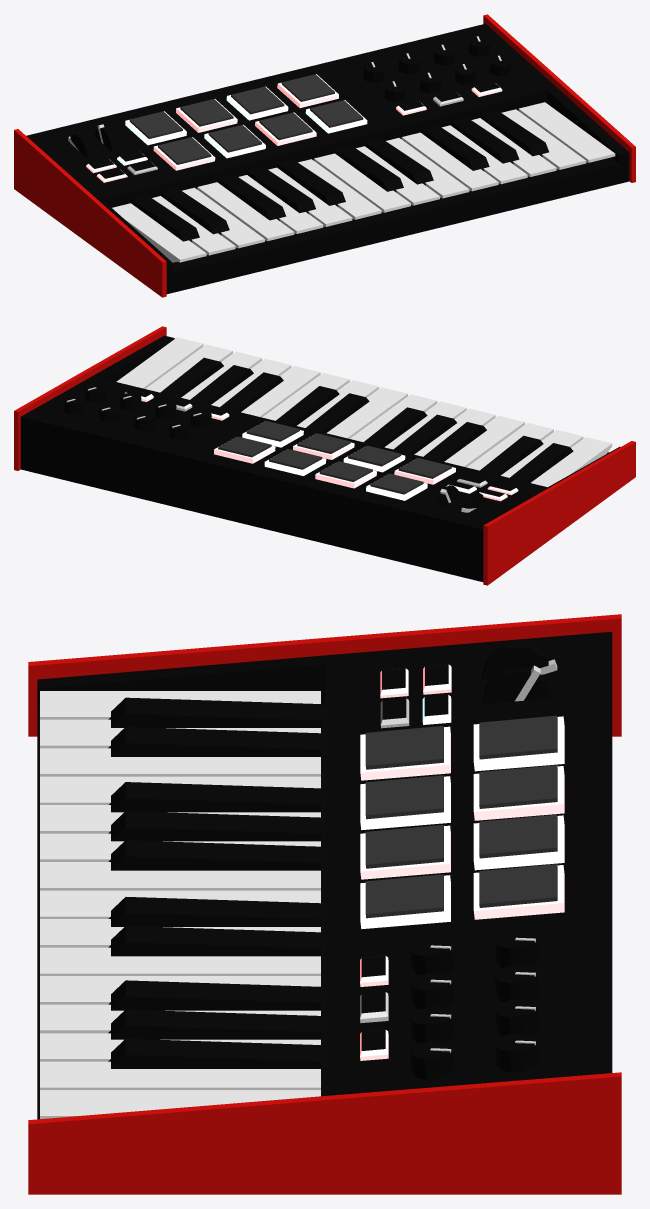
Rendered from controller-transformed.glb.
3 views of the same model, one above another, from view 1: azimuth 30°, elevation 25°; view 2: azimuth 150°, elevation 25°; view 3: azimuth 270°, elevation 25° (orthographic). The views are drawn at different scales.
Visible parts, largest first — view 1: Midi Body_8, White Tuts_1, Cube.005_0, Pad_2, Knob #1_3, Button #1_7, Knob #2_6, Button #2_4; view 2: Midi Body_8, White Tuts_1, Cube.005_0, Pad_2, Knob #1_3, Button #1_7, Knob #2_6; view 3: Midi Body_8, White Tuts_1, Cube.005_0, Pad_2, Knob #1_3, Knob #2_6, Button #1_7, Button #2_4, Cube.002_5.
Part boxes in pixels (left/top/right/bottom): Midi Body_8: left=14, top=14, right=635, bottom=297; White Tuts_1: left=112, top=102, right=615, bottom=262; Cube.005_0: left=130, top=110, right=548, bottom=242; Pad_2: left=125, top=74, right=367, bottom=170; Knob #1_3: left=363, top=36, right=511, bottom=101; Button #1_7: left=86, top=151, right=157, bottom=182; Knob #2_6: left=68, top=124, right=116, bottom=157; Button #2_4: left=396, top=82, right=502, bottom=115; Midi Body_8: left=14, top=326, right=635, bottom=585; White Tuts_1: left=116, top=337, right=612, bottom=487; Cube.005_0: left=160, top=357, right=573, bottom=482; Pad_2: left=214, top=421, right=455, bottom=500; Knob #1_3: left=63, top=384, right=211, bottom=440; Button #1_7: left=446, top=475, right=518, bottom=501; Knob #2_6: left=437, top=485, right=484, bottom=513; Midi Body_8: left=28, top=614, right=621, bottom=1194; White Tuts_1: left=40, top=691, right=320, bottom=1119; Cube.005_0: left=108, top=697, right=321, bottom=1081; Pad_2: left=360, top=715, right=564, bottom=929; Knob #1_3: left=410, top=930, right=539, bottom=1079; Knob #2_6: left=481, top=643, right=557, bottom=703; Button #1_7: left=380, top=664, right=451, bottom=728; Button #2_4: left=360, top=955, right=388, bottom=1060; Cube.002_5: left=360, top=991, right=388, bottom=1023.
Size of the model in its own units: 11.64 by 1.51 by 6.31.
